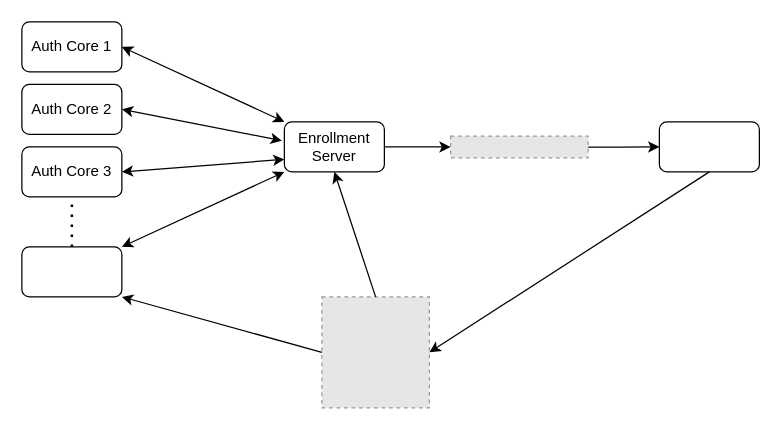
Image size: 781x430. Some labels were removed from this diagram. Grey dashed boxes stand in for pictures. The shapes that lost their labels are listed below. From the top down, each one's centre as x and y in pixels, then its label:
the point at 708,146: Batcher
the point at 71,271: Auth Core n
